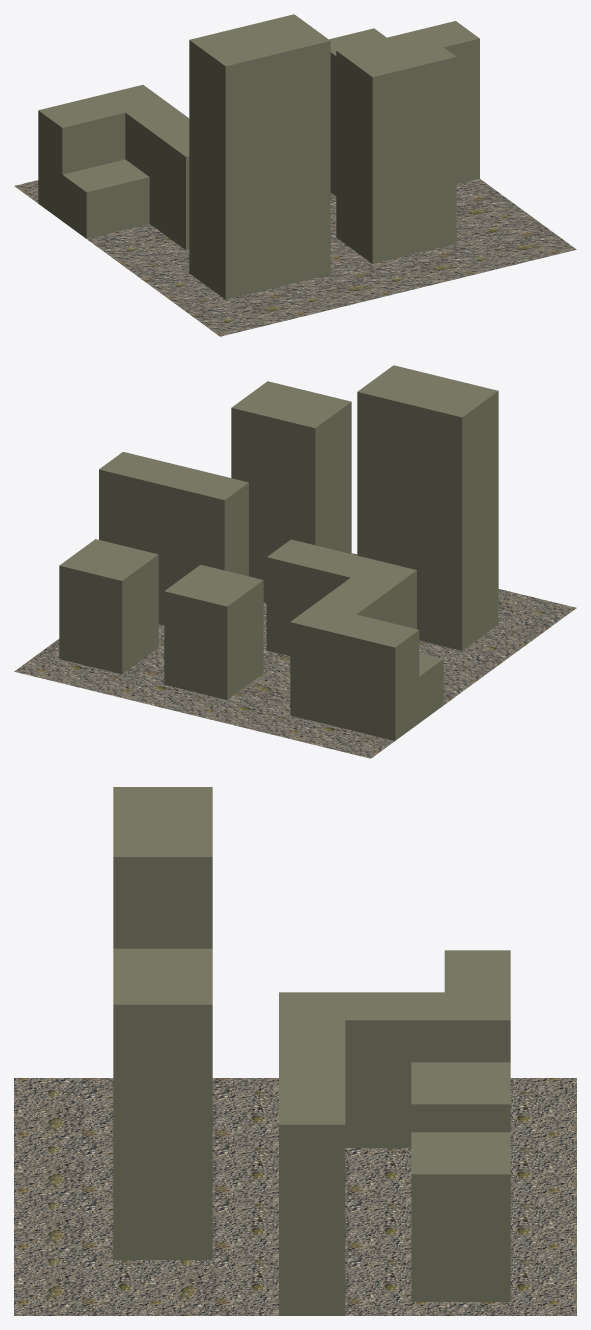
Rendered from tile2.fbx.
3 renders of one model, top to bottom at view 1: azimuth 30°, elevation 25°; view 2: azimuth 150°, elevation 25°; view 3: azimuth 270°, elevation 25°, orthographic. The views are drawn at different scales.
Parts seen in each view (by area): view 1: Tile2; view 2: Tile2; view 3: Tile2.
Boxes of the visible parts, x1,y1,x2,y2 form: Tile2: (14, 14, 576, 336); Tile2: (14, 365, 576, 758); Tile2: (14, 787, 576, 1315).
Bounding box in the file's own units: 1600 × 1000 × 1600.
